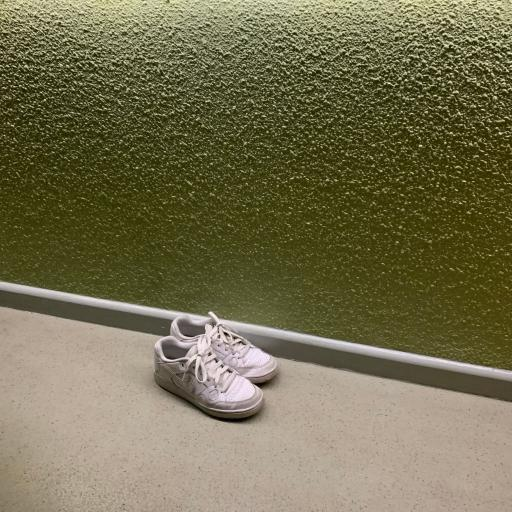shoe: (155, 326, 263, 418), (171, 312, 278, 383)
